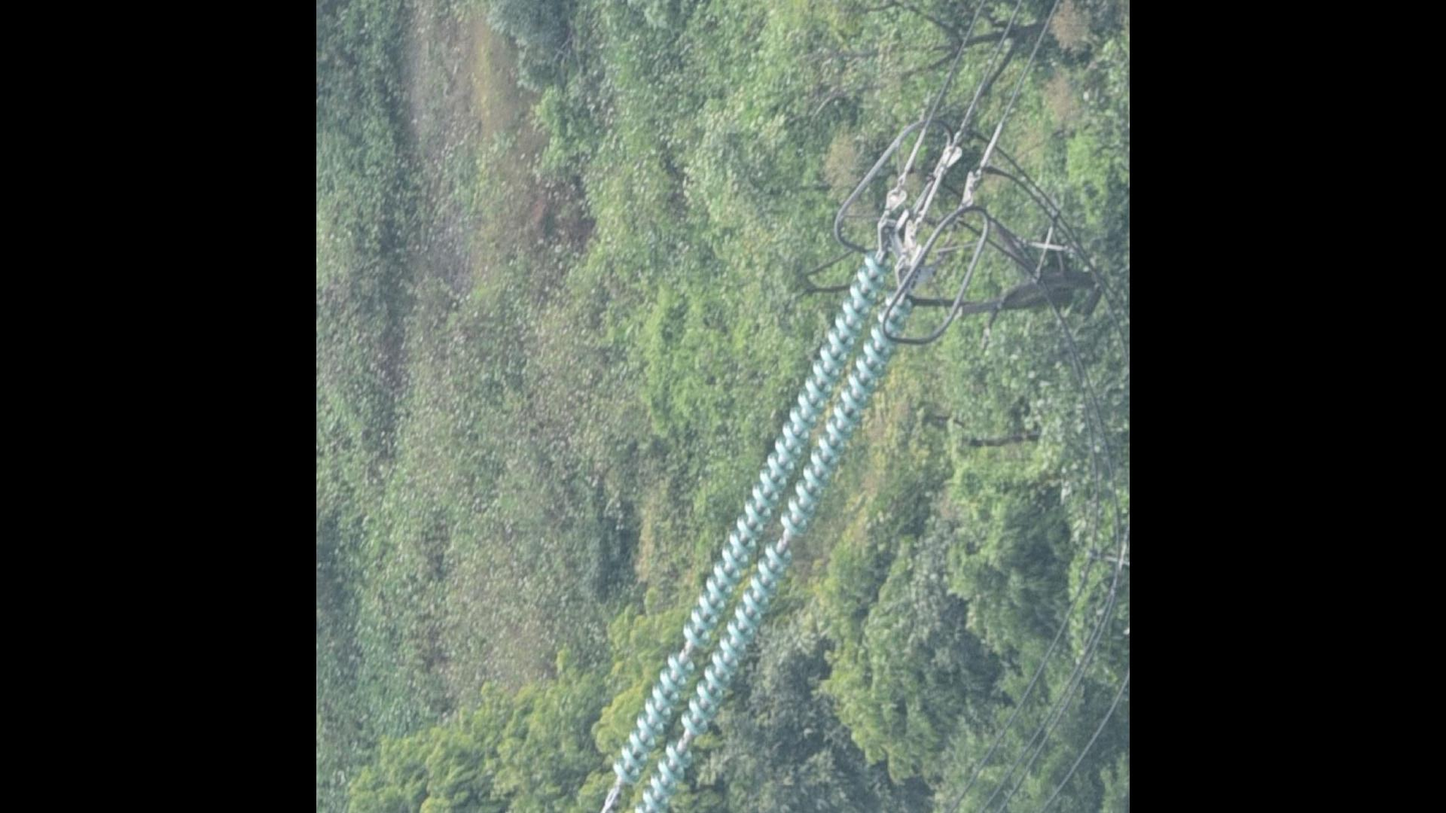insulator: (610, 243, 920, 813)
insulator_stringdrop: (762, 510, 810, 571), (664, 620, 714, 678)
